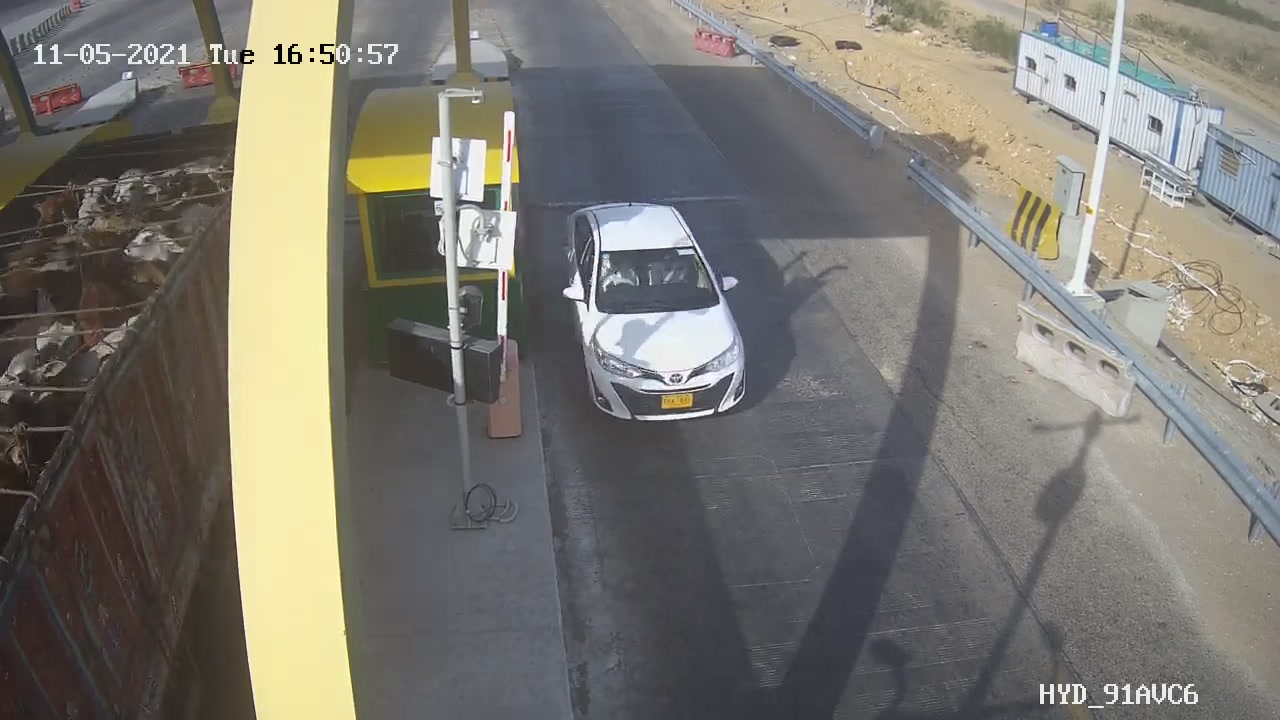F1: (543, 183, 777, 438)
